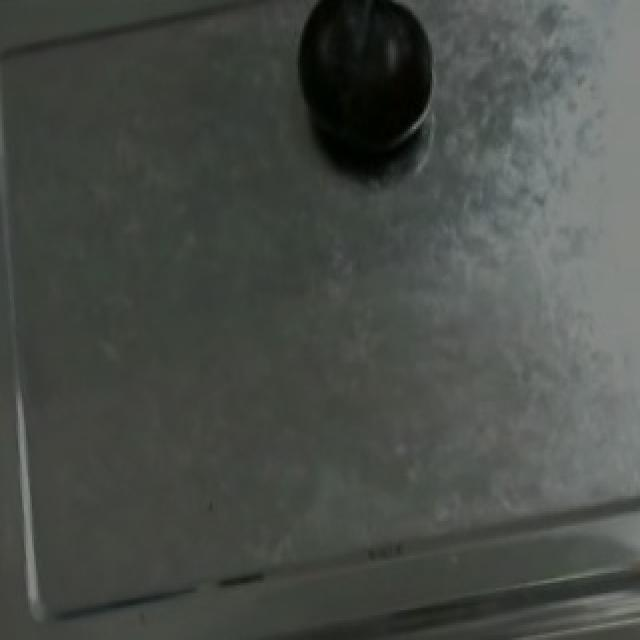Fruit: (284, 0, 444, 176)
